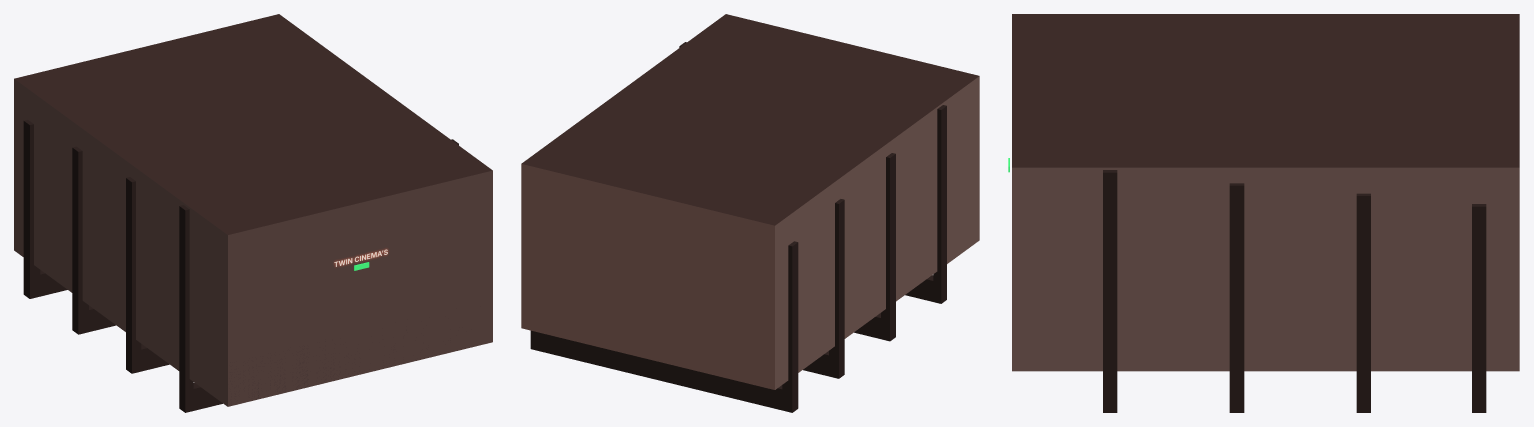
File: theatre_hall.glb
The picture shows the model from 3 angles, left to right: view 1: azimuth 30°, elevation 25°; view 2: azimuth 150°, elevation 25°; view 3: azimuth 270°, elevation 25°; orthographic projection. The views are drawn at different scales.
Visible parts, largest first — view 1: object 1, object 66, object 70, object 68, object 72; view 2: object 1, object 72, object 66, object 68, object 70; view 3: object 1, object 68, object 66, object 70, object 72.
Part boxes in pixels (<box>): object 1: <box>14,14,492,406</box>; object 66: <box>179,139,458,412</box>; object 70: <box>72,146,115,334</box>; object 68: <box>126,177,169,373</box>; object 72: <box>23,120,67,298</box>; object 1: <box>521,14,979,389</box>; object 72: <box>530,241,798,412</box>; object 66: <box>679,42,946,303</box>; object 68: <box>854,153,895,341</box>; object 70: <box>803,199,844,378</box>; object 1: <box>1012,14,1519,371</box>; object 68: <box>1229,183,1244,412</box>; object 66: <box>1103,170,1117,412</box>; object 70: <box>1356,193,1370,412</box>; object 72: <box>1472,204,1486,412</box>.
Size of the model in its own units: 13 by 9.3 by 17.73.
Materials: 39 (14 with a texture image).
